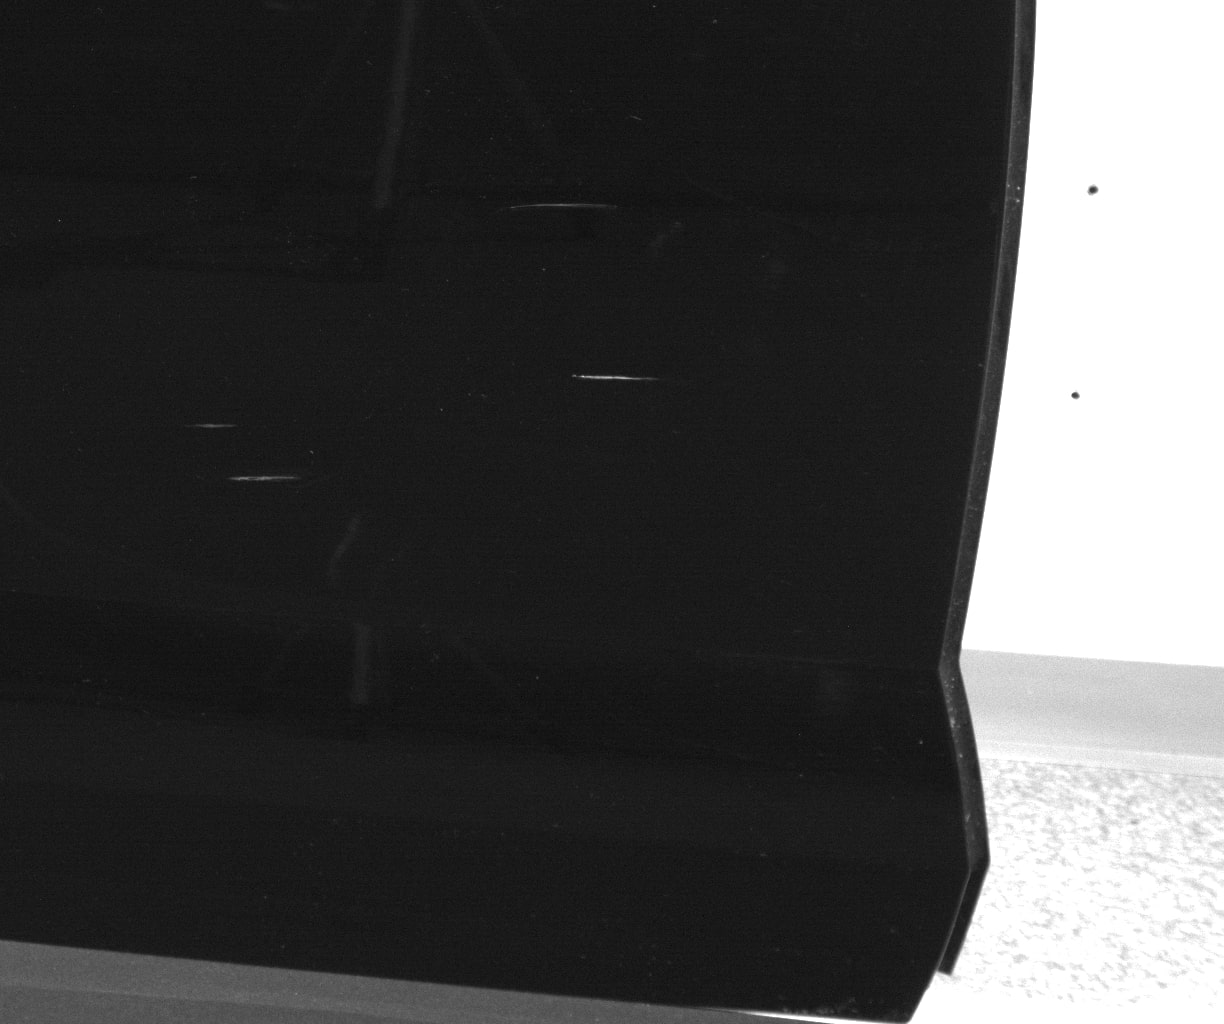scratch: (509, 201, 618, 210), (573, 372, 660, 383), (231, 474, 297, 483), (191, 422, 236, 430)
